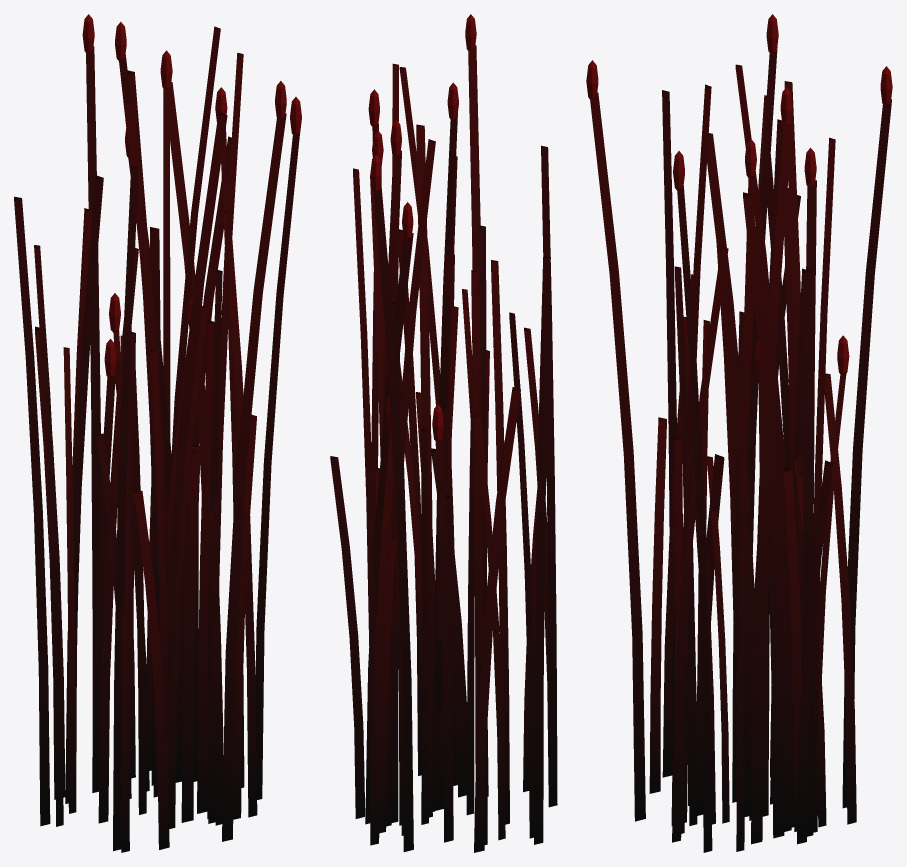
File: wet_sedge_v1.fbx
The picture shows the model from 3 angles, left to right: view 1: azimuth 30°, elevation 25°; view 2: azimuth 150°, elevation 25°; view 3: azimuth 270°, elevation 25°; orthographic projection. The views are drawn at different scales.
Parts seen in each view (by area): view 1: wet_sedge_v1; view 2: wet_sedge_v1; view 3: wet_sedge_v1.
Boxes of the visible parts, x1=… form: wet_sedge_v1: x1=14, y1=14, x2=301, y2=852; wet_sedge_v1: x1=330, y1=14, x2=557, y2=852; wet_sedge_v1: x1=586, y1=14, x2=892, y2=852.
Size of the model in its own units: 22.22 by 69.14 by 24.39.
